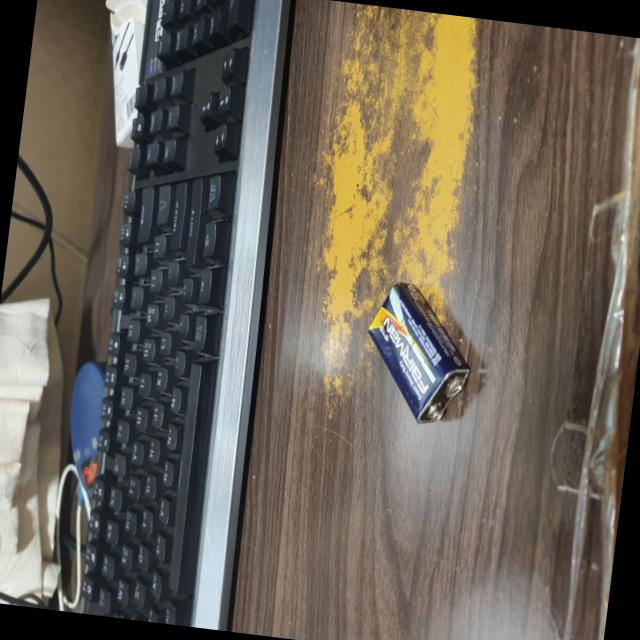battery-etc-etc: (357, 272, 482, 429)
